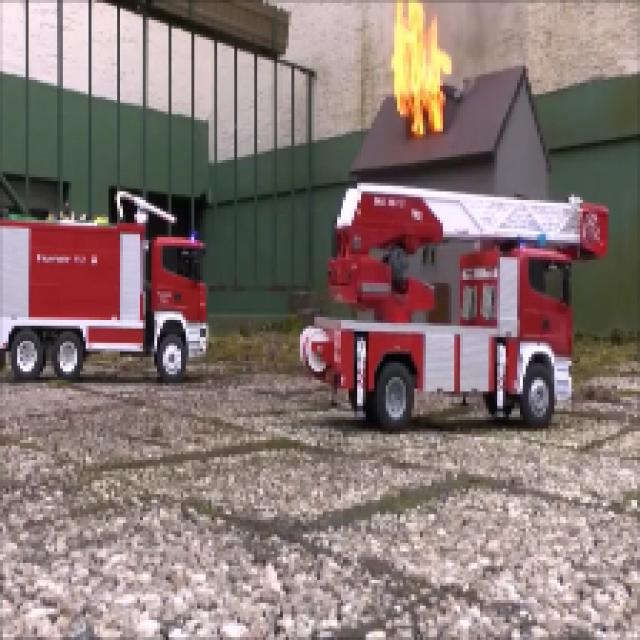fire: (382, 4, 456, 135)
